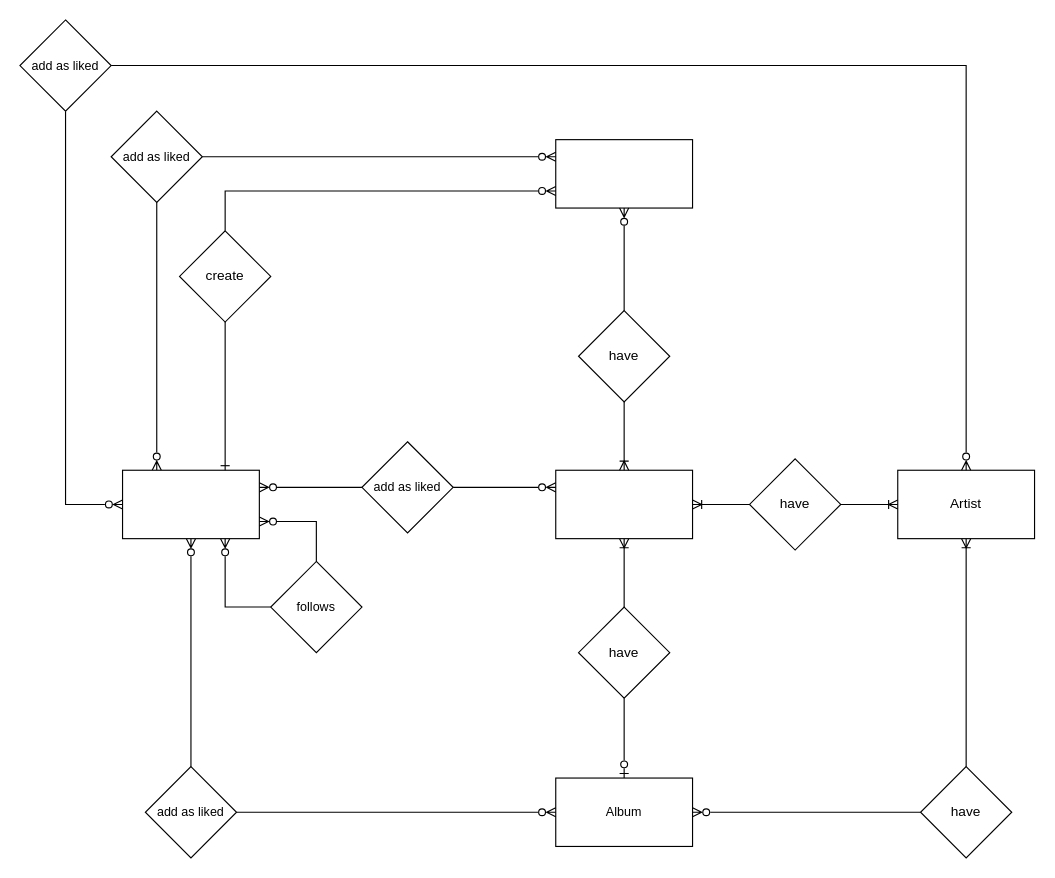
Image size: 1055x878. Some labels were removed from this diagram. The centre of each missing label's shape, as x and y in pixels:
"Playlist" belongs at (624,173).
"Song" belongs at (624,504).
"User" belongs at (190,504).
